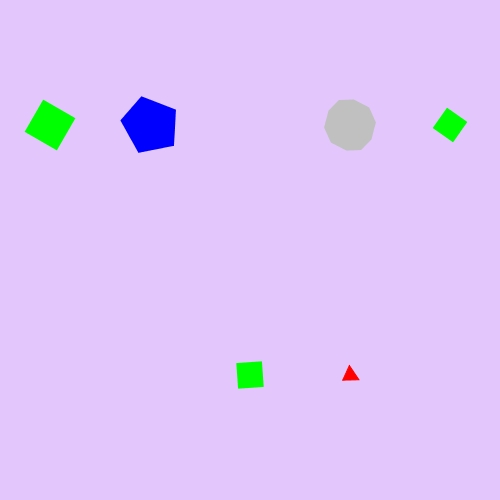decagon: (320, 97, 381, 153)
pentagon: (119, 94, 182, 157)
quadrilateral: (21, 96, 80, 155), (229, 354, 272, 397), (429, 104, 471, 146)
triangle: (338, 362, 363, 388)
